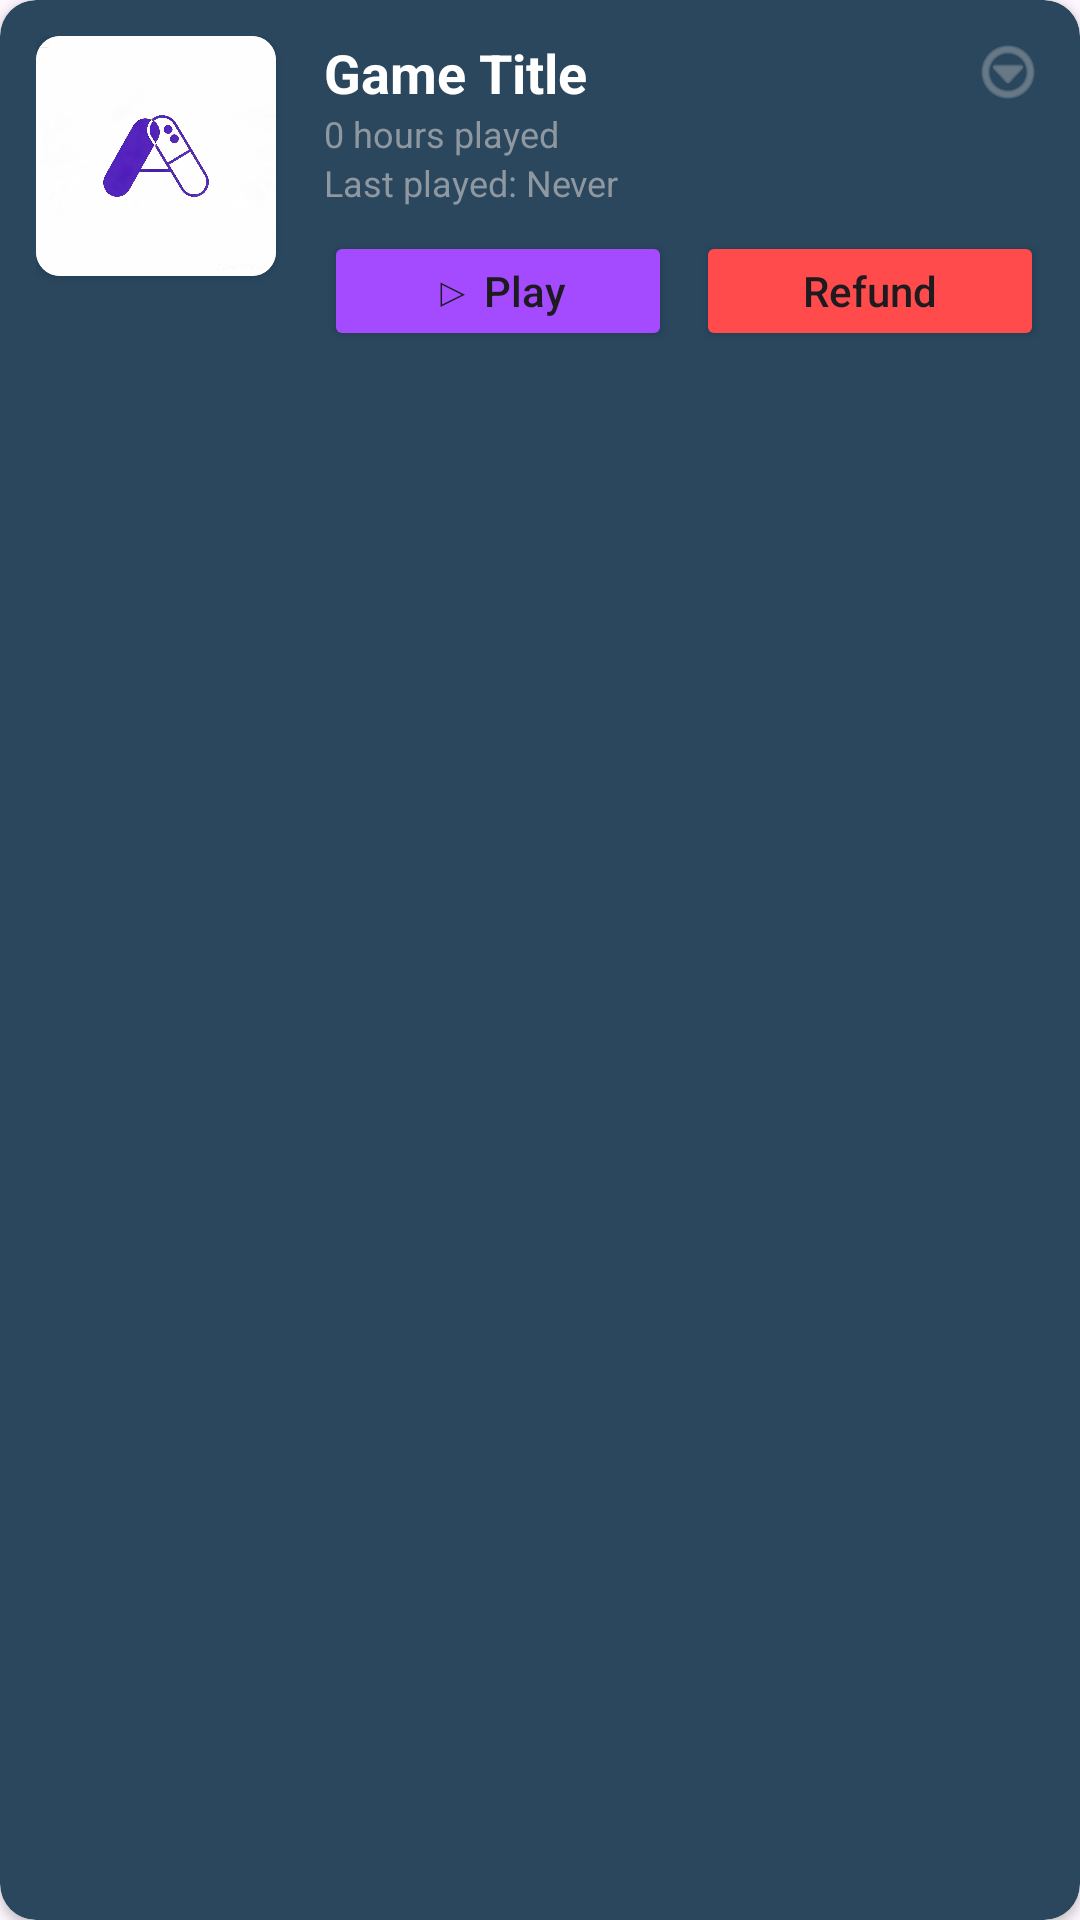

Icon bounding boxes for this 1080 × 1920 phone screenshot, format box=[x1, y1, x2, y2]:
more: box=[982, 46, 1034, 98]
